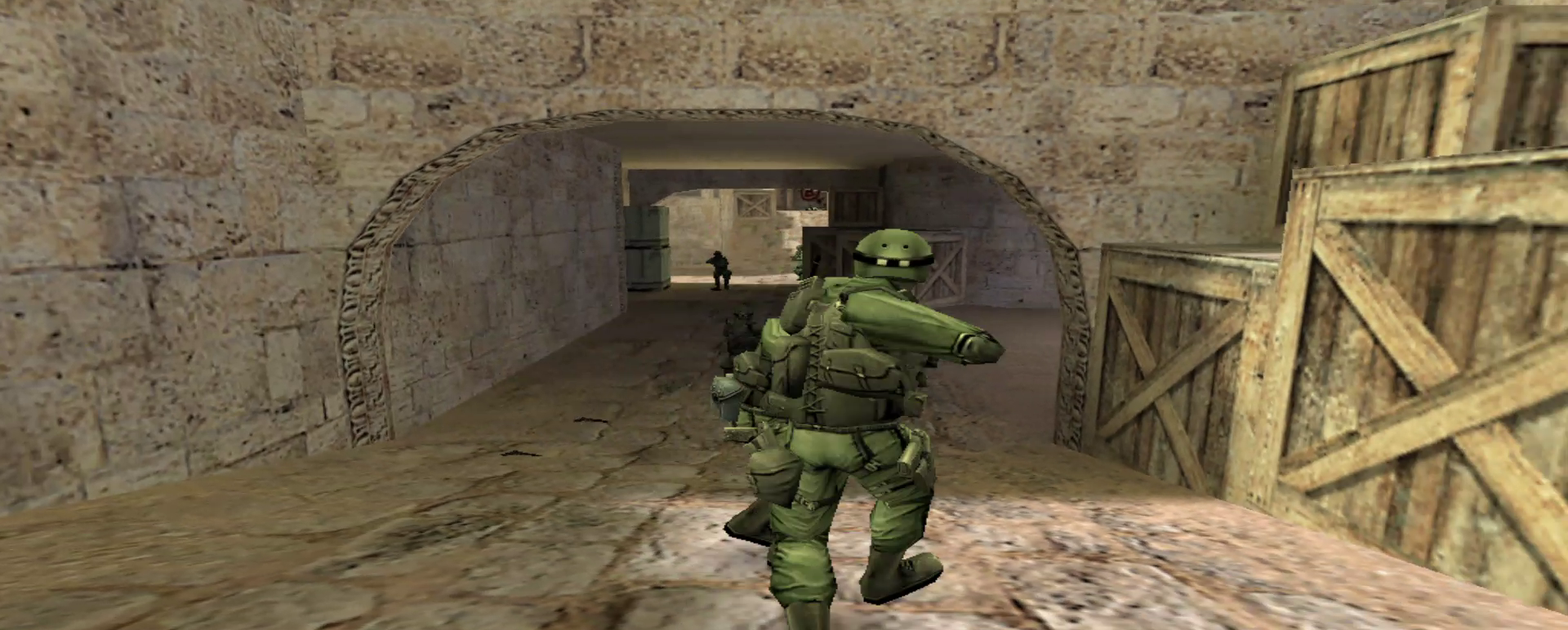counter: (739, 278, 959, 630)
counter_head: (854, 230, 933, 293)
